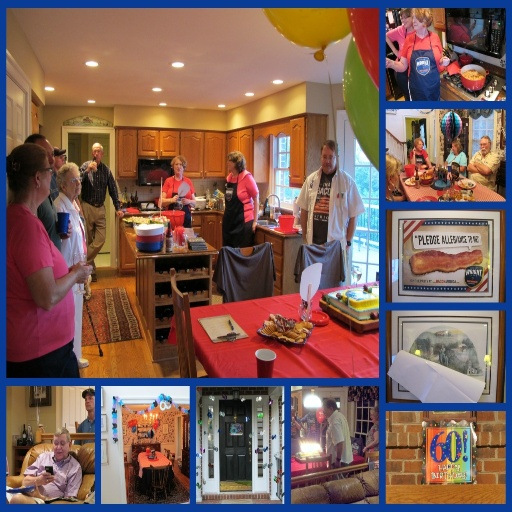hand: (74, 257, 93, 281), (54, 218, 72, 240), (22, 479, 40, 496), (36, 470, 54, 485), (438, 55, 449, 66), (169, 192, 179, 204), (384, 57, 392, 71), (179, 195, 188, 207), (87, 160, 96, 171), (116, 209, 124, 219), (335, 458, 341, 469), (252, 222, 257, 234), (303, 238, 307, 244)
